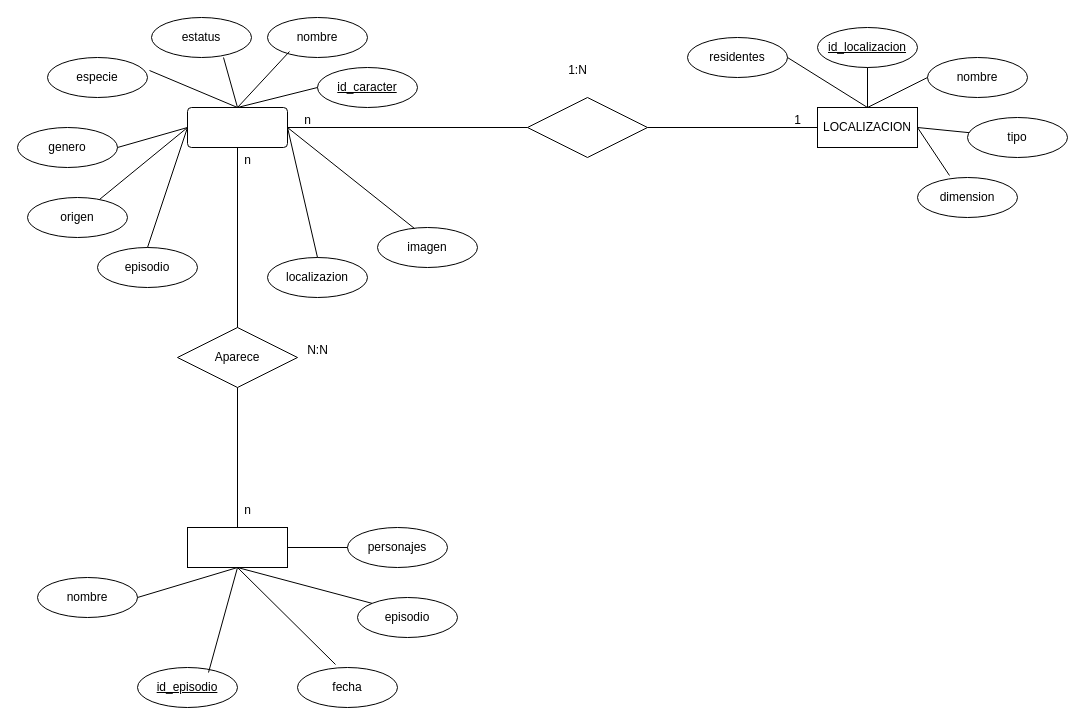
Image size: 1085x725. Some labels were removed from this diagram. Here are the shapes that lost their labels. From the top down, the box of each, then its label:
(186, 106, 288, 148): CARACTER
(526, 96, 648, 158): Vive
(186, 526, 288, 568): EPISODIOS
